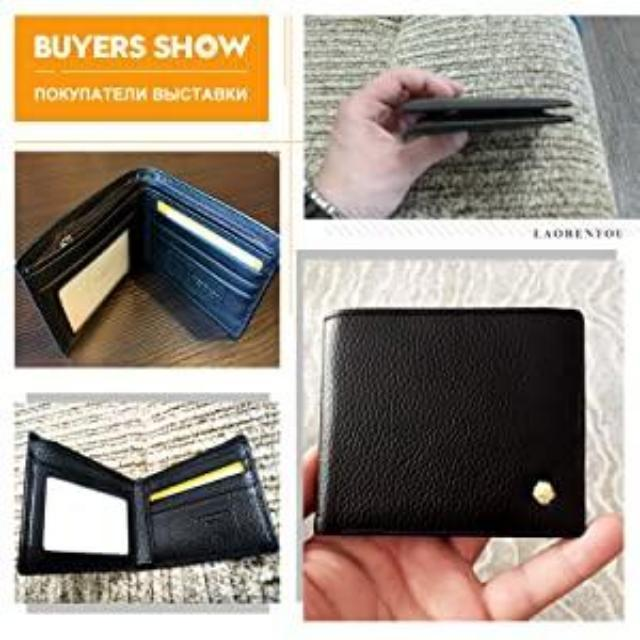wallet: (316, 295, 588, 545), (14, 162, 280, 358), (19, 424, 278, 578), (393, 90, 577, 132)
